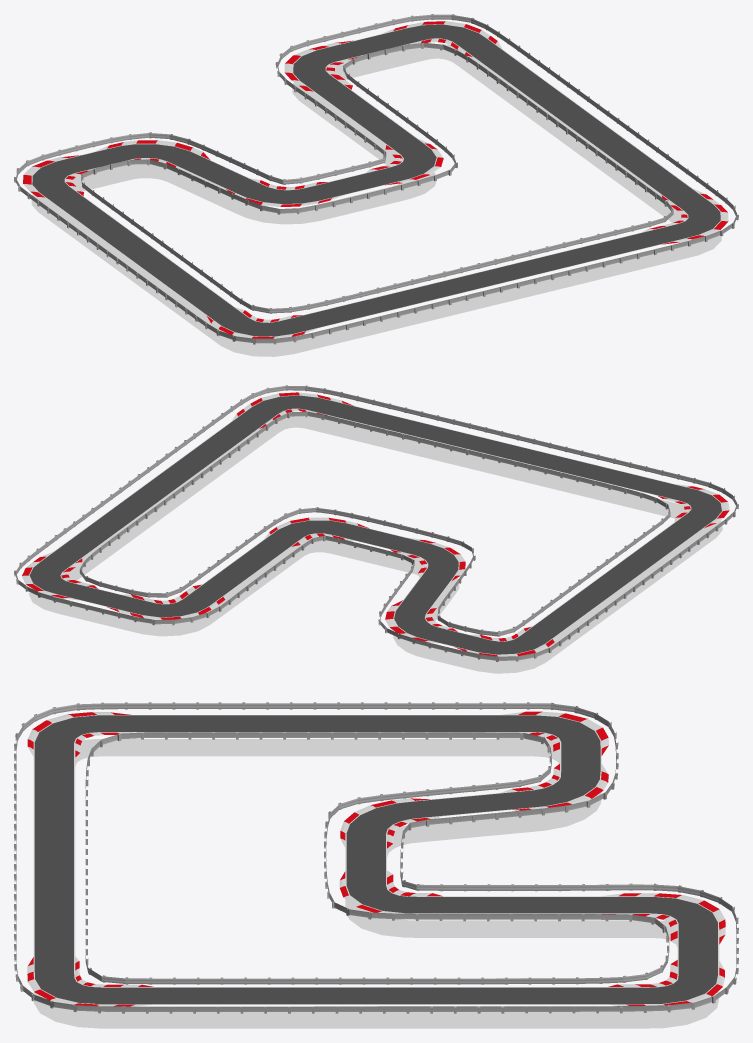
File: Trak 1.fbx
3 renders of one model, top to bottom at view 1: azimuth 30°, elevation 25°; view 2: azimuth 150°, elevation 25°; view 3: azimuth 270°, elevation 25°, orthographic. The views are drawn at different scales.
Visible parts, largest first — view 1: Trak.001, TrakMap, BumpStop1, BumpStop; view 2: Trak.001, TrakMap, BumpStop1, BumpStop; view 3: Trak.001, TrakMap, BumpStop1, BumpStop.
Boxes of the visible parts, <box> form: Trak.001: <box>23,21,728,338</box>; TrakMap: <box>31,44,721,356</box>; BumpStop1: <box>14,14,738,344</box>; BumpStop: <box>81,42,673,313</box>; Trak.001: <box>22,392,729,656</box>; TrakMap: <box>29,416,722,673</box>; BumpStop1: <box>14,385,738,661</box>; BumpStop: <box>79,411,670,636</box>; Trak.001: <box>27,711,725,1006</box>; TrakMap: <box>33,739,719,1028</box>; BumpStop1: <box>14,702,738,1013</box>; BumpStop: <box>85,732,669,984</box>.
Bounding box in the file's own units: 16738 × 737 × 16801.
